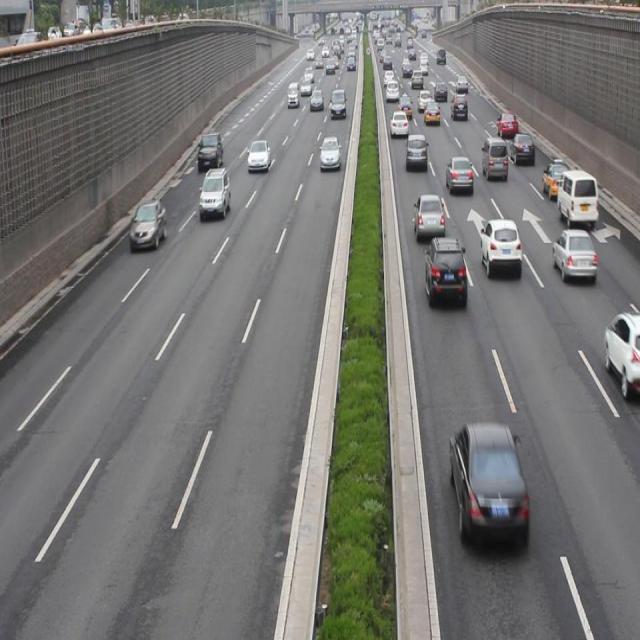car: (448, 419, 528, 546), (602, 308, 640, 394), (422, 234, 467, 306), (551, 226, 597, 281), (479, 217, 521, 277), (130, 197, 168, 251), (199, 165, 231, 219), (414, 191, 446, 243), (541, 159, 571, 201), (445, 153, 473, 195), (197, 130, 224, 172), (510, 130, 534, 168), (405, 132, 428, 170), (248, 138, 272, 174), (318, 135, 341, 171), (496, 110, 519, 141), (390, 108, 408, 140), (451, 91, 468, 120), (423, 98, 440, 125)
truck: (555, 168, 597, 224), (481, 134, 508, 180)
